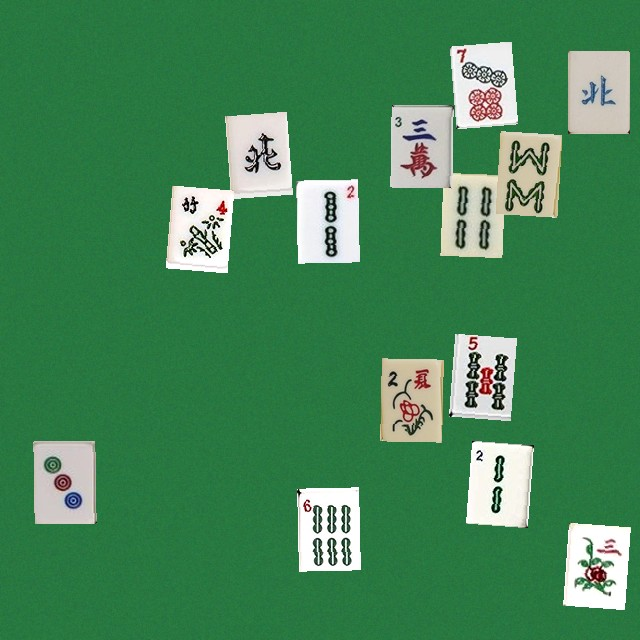tile: (440, 172, 502, 255), (449, 41, 511, 124), (296, 179, 358, 262), (224, 111, 286, 194), (390, 104, 452, 187), (563, 522, 625, 605), (380, 358, 442, 441), (33, 440, 95, 523), (495, 131, 557, 214), (165, 185, 227, 268), (448, 333, 510, 416), (297, 487, 359, 570), (465, 440, 527, 523), (567, 50, 629, 133)
